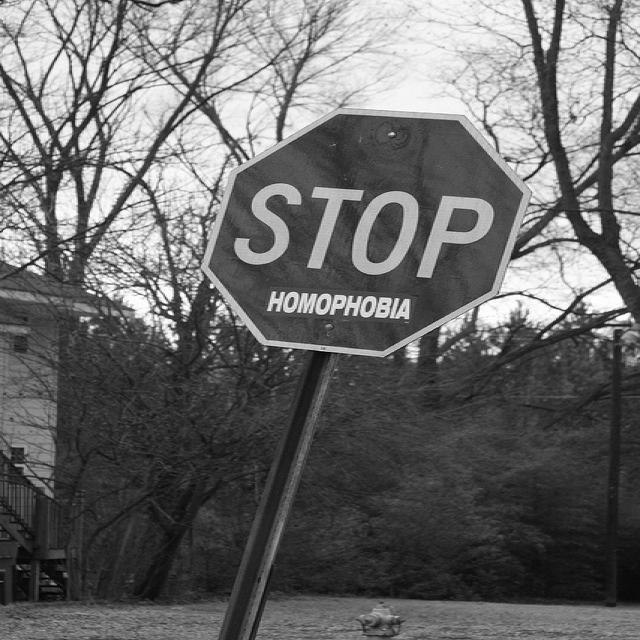pole: (210, 351, 327, 639)
